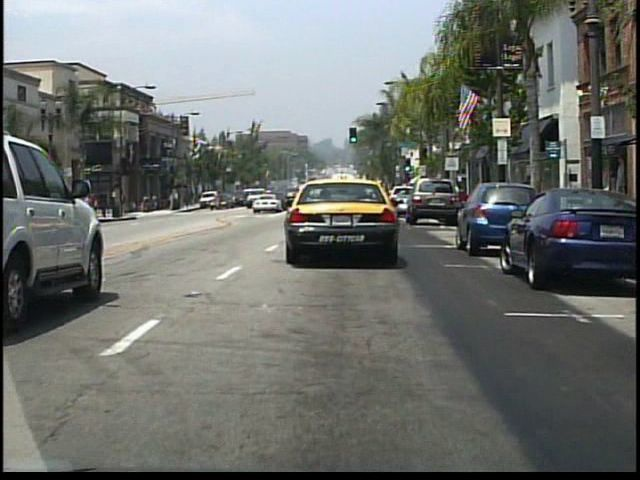person: (218, 187, 228, 212)
